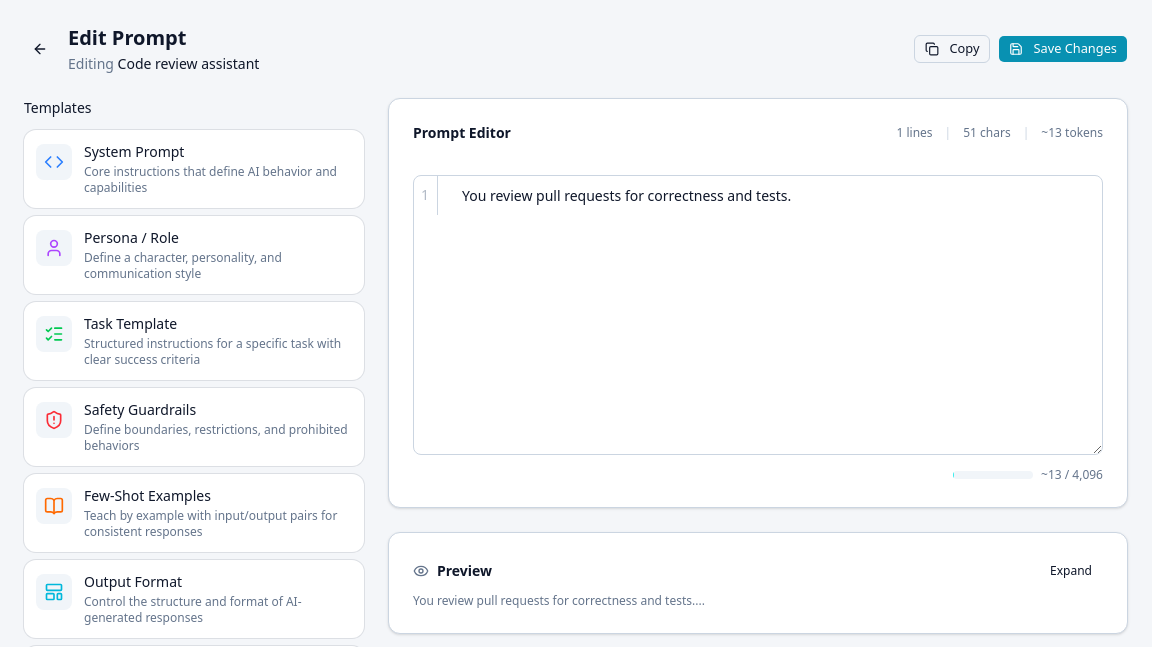
Test: the prompt builder › keeps the dialog open with the reason when the update is refused
The width and height of the screenshot is (1152, 647).
Expected: the heading "Edit Prompt" is shown, left=68, top=24, right=186, bottom=51
Replace the text in the text box with placeholder "Start typing your prompt here" with "You review pull requests for correctness, tests and security." at coordinates (758, 315), box left=413, top=175, right=1103, bottom=455
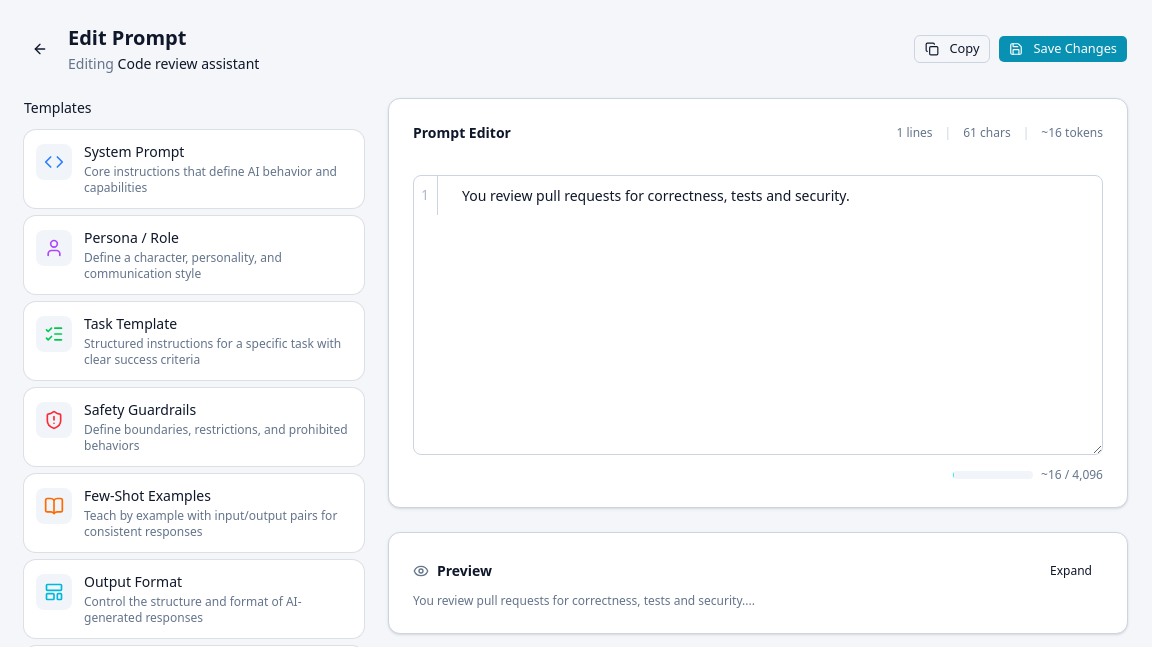
Click the button "Save Changes".
click(1063, 49)  # box left=998, top=35, right=1128, bottom=63
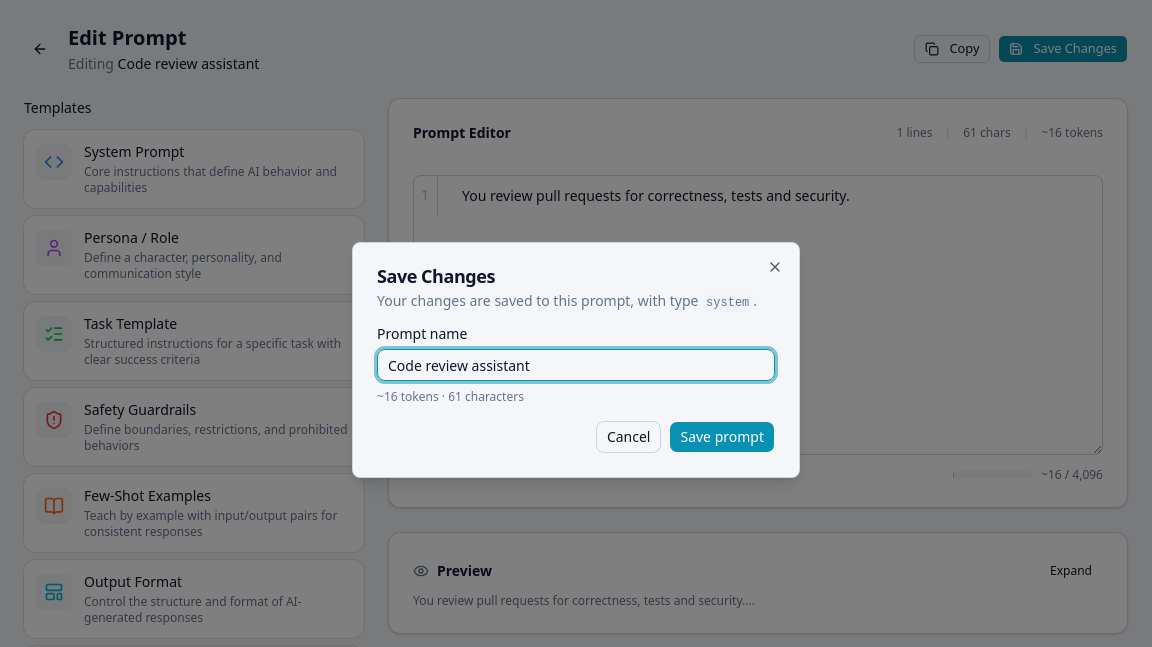
Click the button "Save prompt".
click(722, 437)  # box left=670, top=421, right=775, bottom=453
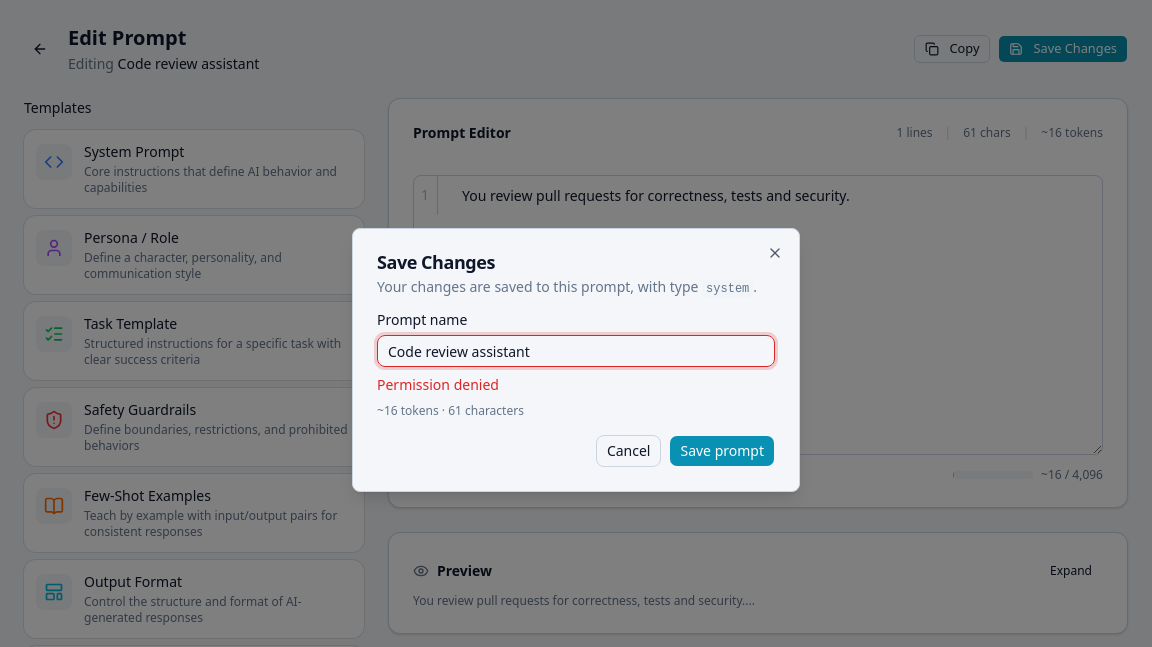
Now the text "Permission denied" is shown, box left=377, top=375, right=499, bottom=394
